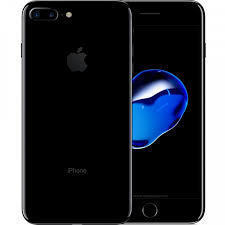iphone: (19, 1, 132, 225)
iphone7: (17, 1, 206, 224)
